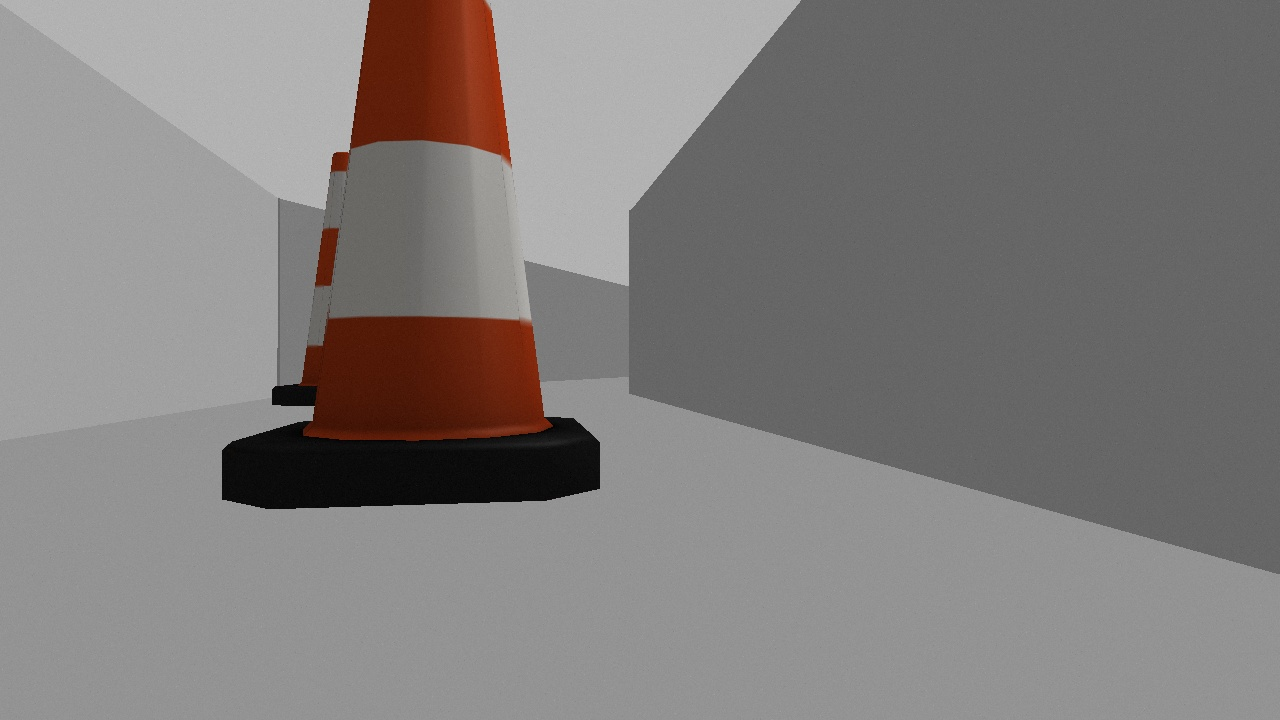barricade: (201, 1, 618, 518), (266, 139, 395, 414)
